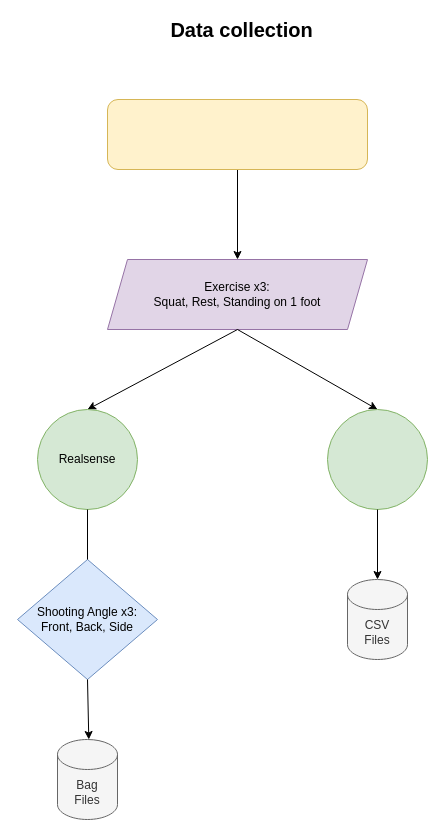
Some shapes in this 445 by 837 pixel diagram are drawn without their labels. The box of each missing label's shape, as (x1, y1, x2, y2) in pixels:
Subject: (106, 98, 368, 170)
Vicon: (326, 408, 428, 510)
